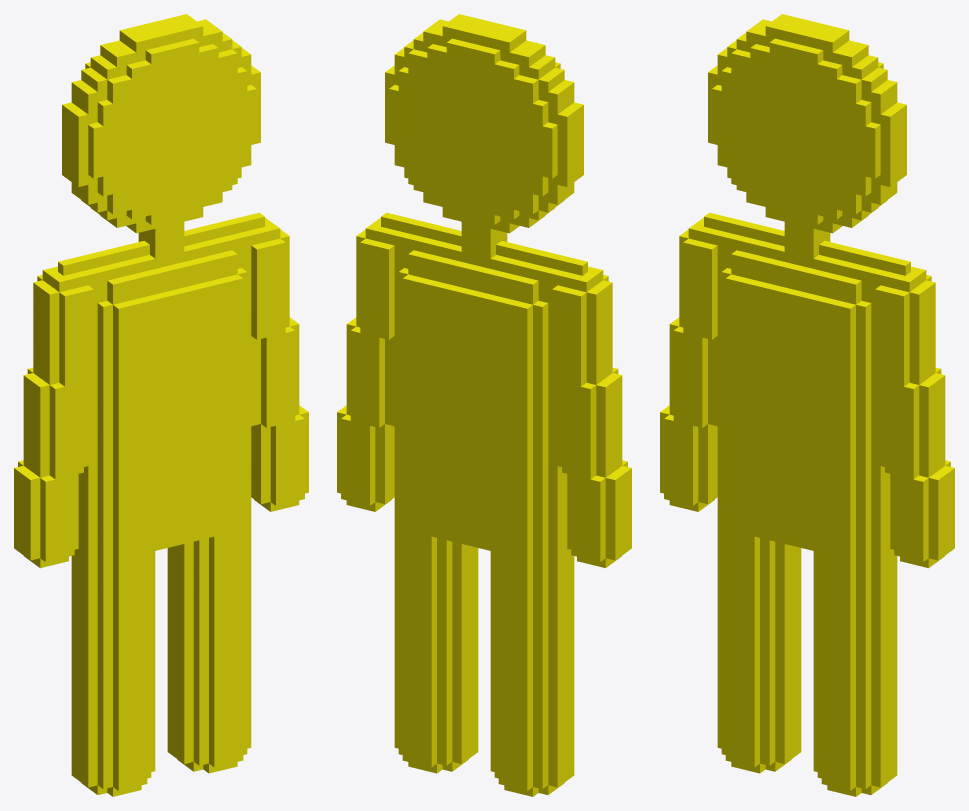
The model's file is teapot-4.obj.
3 renders of one model, left to right at view 1: azimuth 30°, elevation 25°; view 2: azimuth 150°, elevation 25°; view 3: azimuth 330°, elevation 25°, orthographic.
Size of the model in its own units: 2.9 by 7.4 by 0.7.
1 material, 1 textured.
